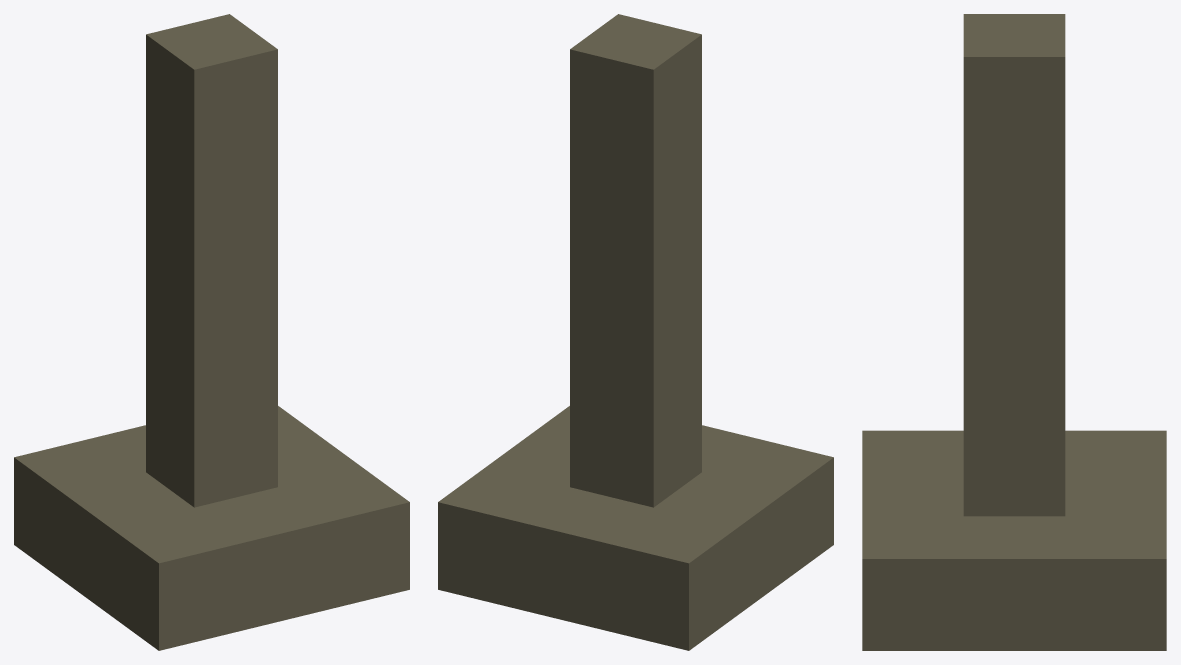
3 views of the same model, side by side, from view 1: azimuth 30°, elevation 25°; view 2: azimuth 150°, elevation 25°; view 3: azimuth 270°, elevation 25° (orthographic). The views are drawn at different scales.
Visible parts, largest first — view 1: Layer.1; view 2: Layer.1; view 3: Layer.1.
Boxes of the visible parts, left/top/right/bottom form: Layer.1: left=14, top=14, right=409, bottom=650; Layer.1: left=438, top=14, right=833, bottom=650; Layer.1: left=862, top=14, right=1166, bottom=650.
Size of the model in its own units: 3 by 6 by 3.
Materials: 1 (1 with a texture image).
